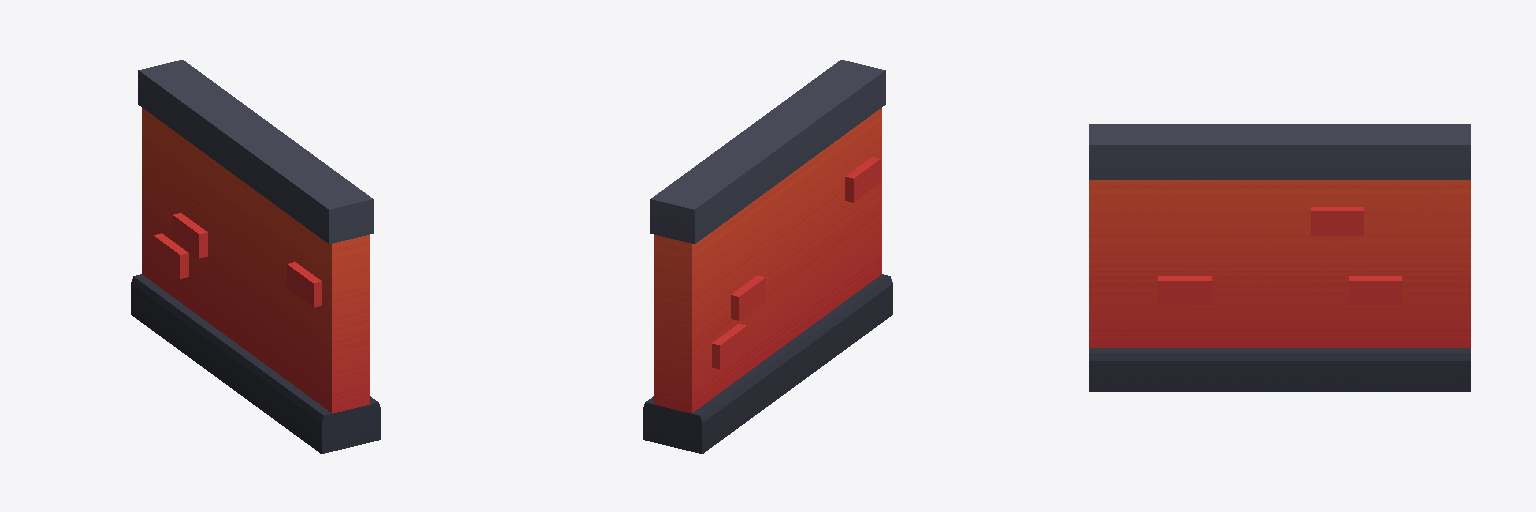
3 views of the same model, side by side, from view 1: azimuth 30°, elevation 25°; view 2: azimuth 150°, elevation 25°; view 3: azimuth 270°, elevation 25° (orthographic).
Visible parts, largest first — view 1: brick-wall; view 2: brick-wall; view 3: brick-wall.
Boxes of the visible parts, box(x1,y1,x2,y2) form: brick-wall: box(131, 60, 380, 453); brick-wall: box(643, 60, 892, 453); brick-wall: box(1089, 124, 1470, 391).
Bounding box in the file's own units: 0.441 × 1.72 × 2.45.
Materials: 1 (1 with a texture image).